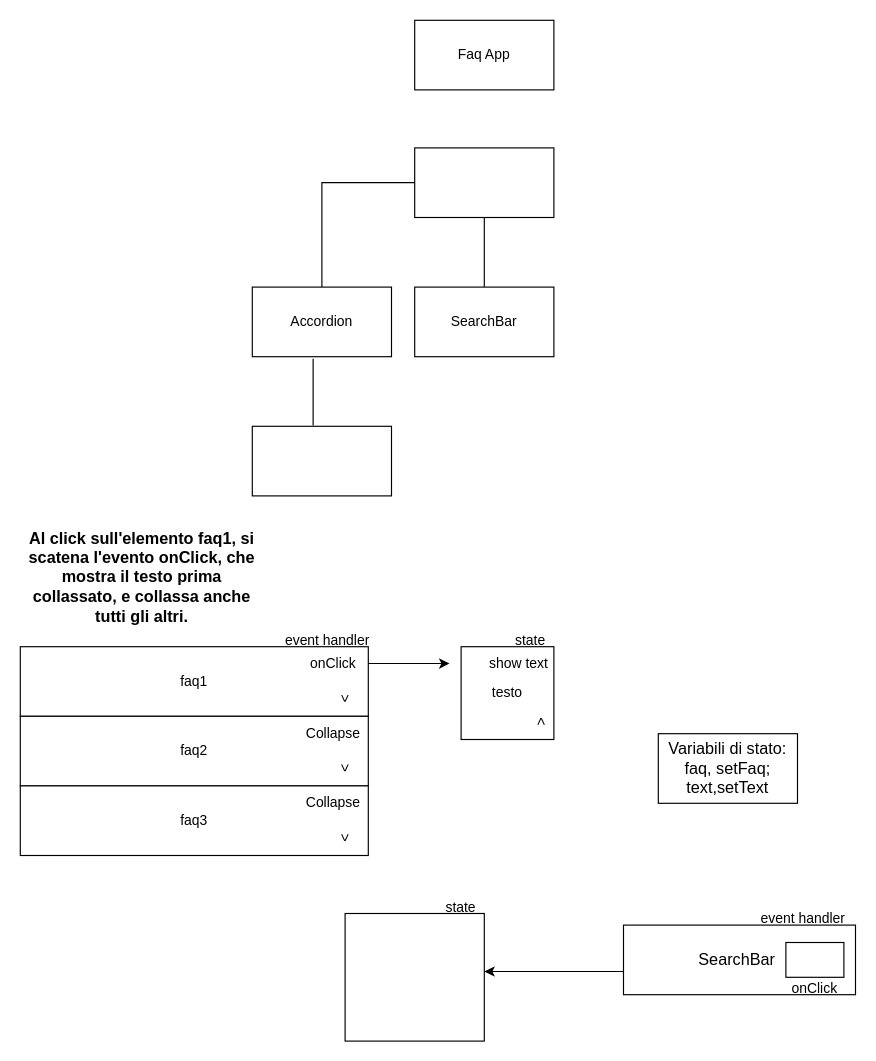
The diagram is 876 pixels wide and 1061 high, and some of its shapes have lost their labels. The shapes that lost their labels are listed below. From the top down, each one's centre as x and y in pixels, then its label:
At point 484,182: "App".
At point 321,460: "Faq".
At point 414,976: "Filtra le faq associate al valore dell'imput".
At point 814,959: "button".
